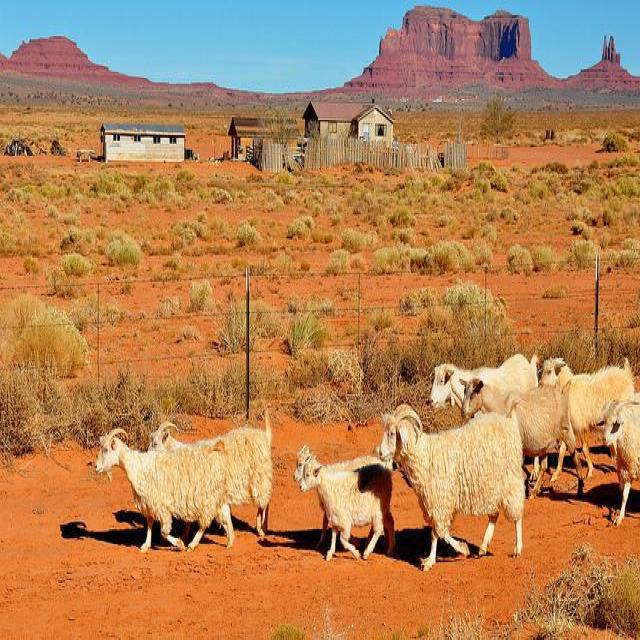Sheep: (379, 403, 526, 571), (97, 426, 231, 562), (148, 421, 275, 540), (299, 449, 397, 564), (544, 355, 635, 478), (504, 382, 583, 498), (429, 354, 540, 409), (601, 391, 639, 529)
